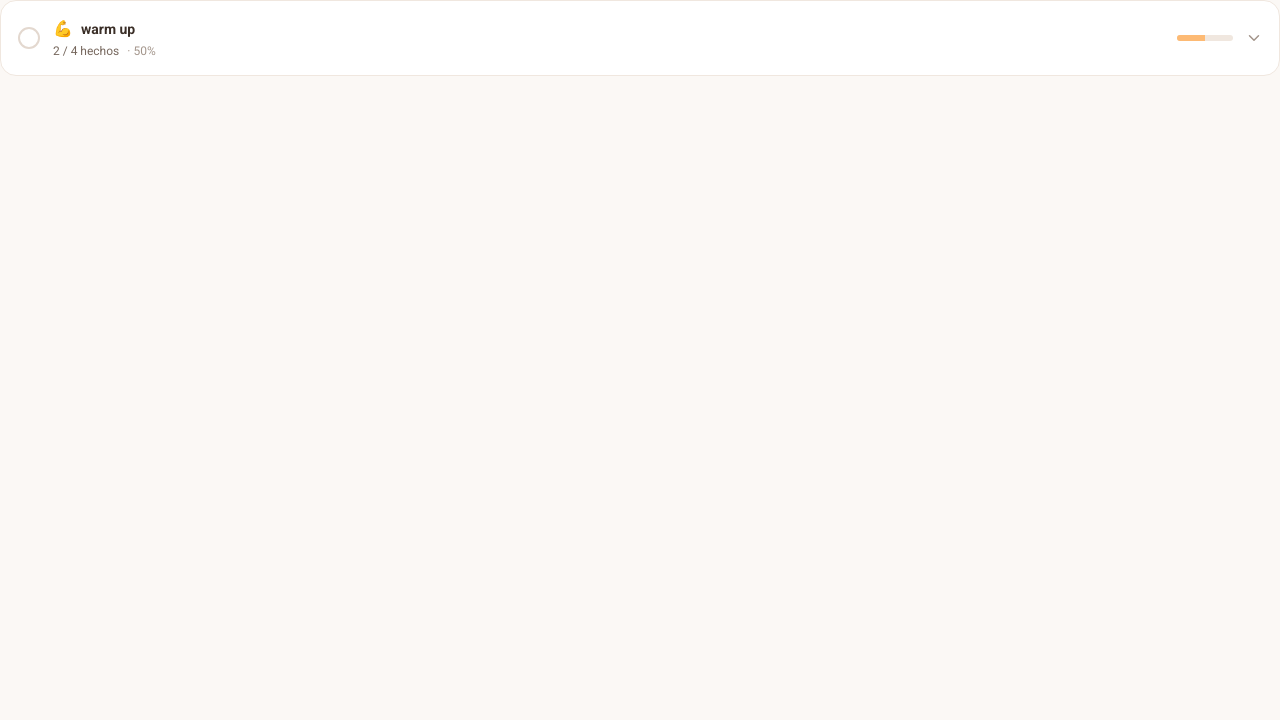
Test: lo resuelto en una línea › grupo resuelto → fila de resumen; el grupo pendiente sigue entero
Click the text "warm up".
click(108, 29)  # box left=81, top=19, right=135, bottom=39
(page scrolled)
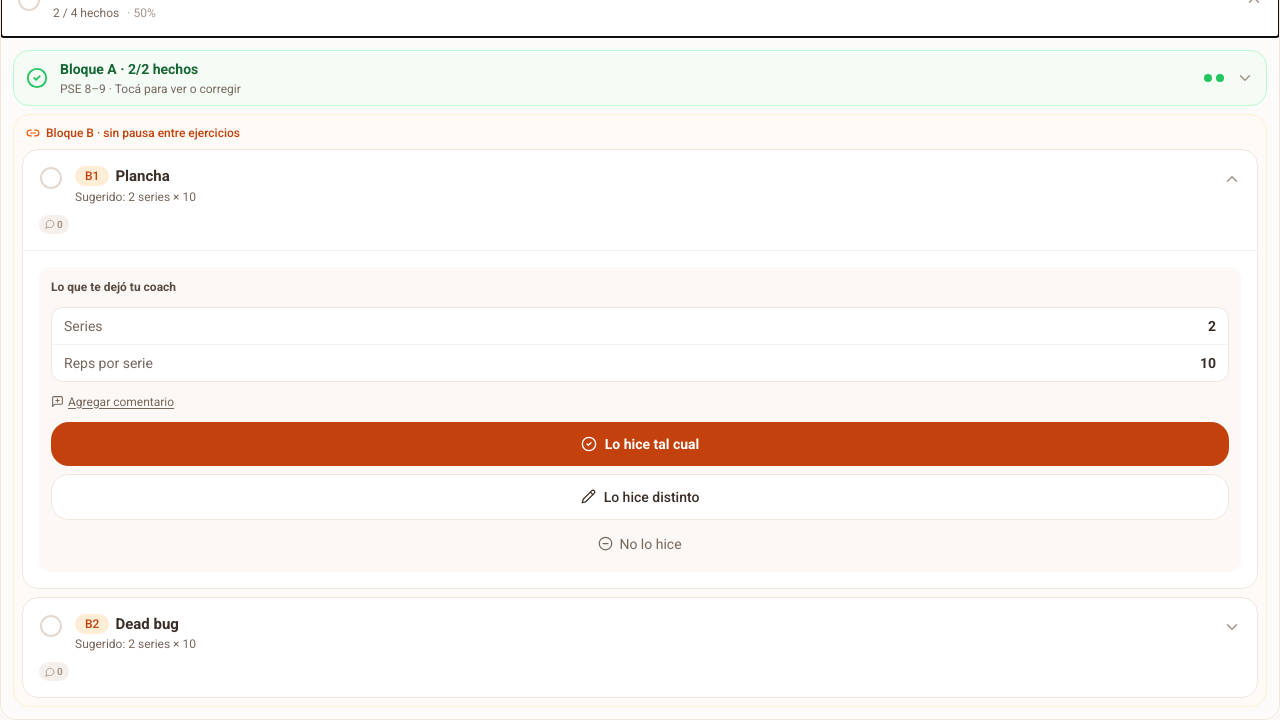
Now the text "Bloque A · 2/2 hechos" is shown, box left=60, top=61, right=198, bottom=77
Now the text "PSE 8–9 · Tocá para ver o corregir" is shown, box left=60, top=82, right=241, bottom=96
Now the text "Plancha" is shown, box left=115, top=167, right=170, bottom=185
